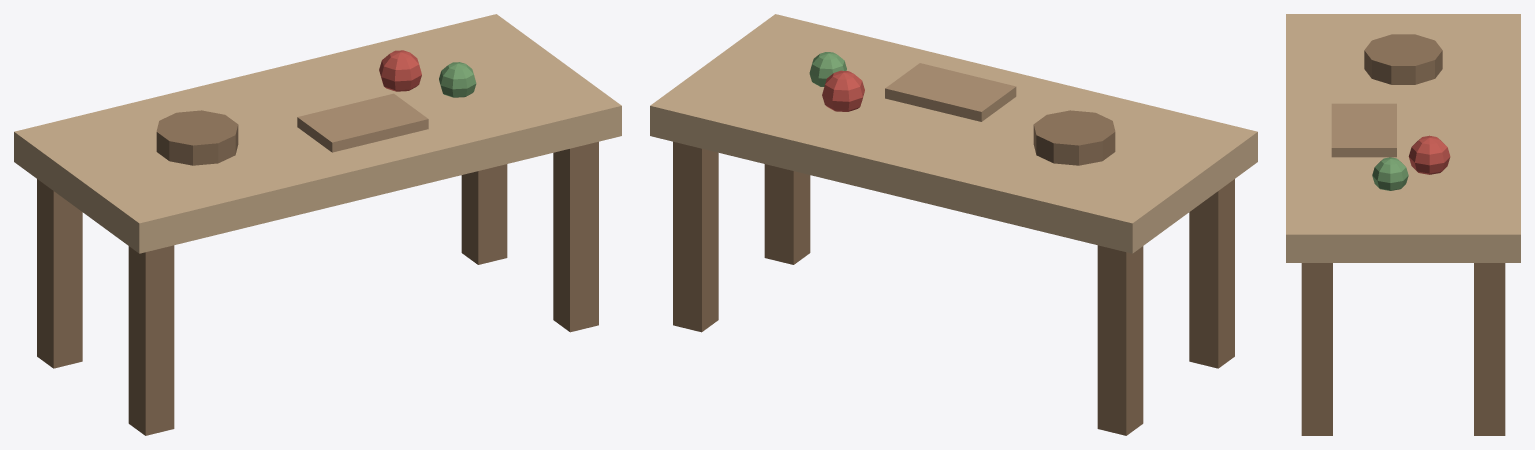
Rendered from kitchen_table.glb.
3 renders of one model, left to right at view 1: azimuth 30°, elevation 25°; view 2: azimuth 150°, elevation 25°; view 3: azimuth 270°, elevation 25°, orthographic. The views are drawn at different scales.
Parts seen in each view (by area): view 1: kitchen_table; view 2: kitchen_table; view 3: kitchen_table.
Part boxes in pixels (x1,y1,x2,y2): kitchen_table: [14, 14, 621, 435]; kitchen_table: [650, 14, 1257, 435]; kitchen_table: [1286, 14, 1520, 435].
Size of the model in its own units: 2 by 1.01 by 0.9.
